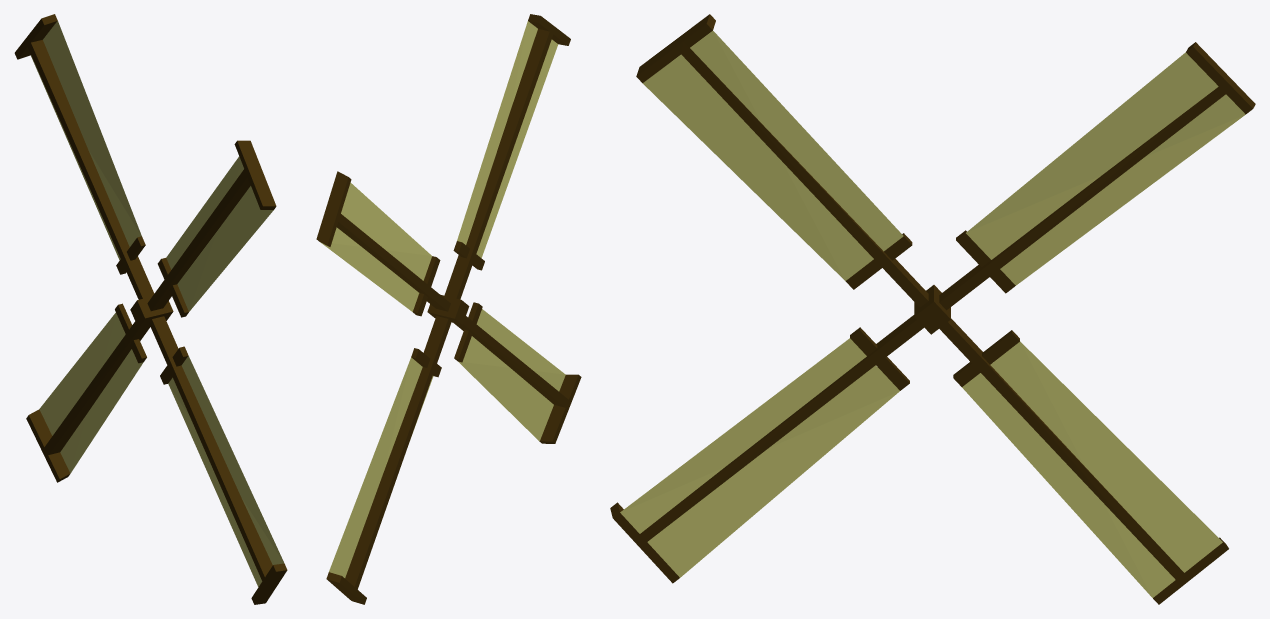
File: mill_sails0009.obj
3 renders of one model, left to right at view 1: azimuth 30°, elevation 25°; view 2: azimuth 150°, elevation 25°; view 3: azimuth 270°, elevation 25°, orthographic. The views are drawn at different scales.
Visible parts, largest first — view 1: Sails; view 2: Sails; view 3: Sails.
Part boxes in pixels (x1,y1,x2,y2): Sails: (14, 14, 287, 604); Sails: (316, 14, 581, 604); Sails: (610, 14, 1255, 604).
Size of the model in its own units: 0.5135 by 8.19 by 8.18.
